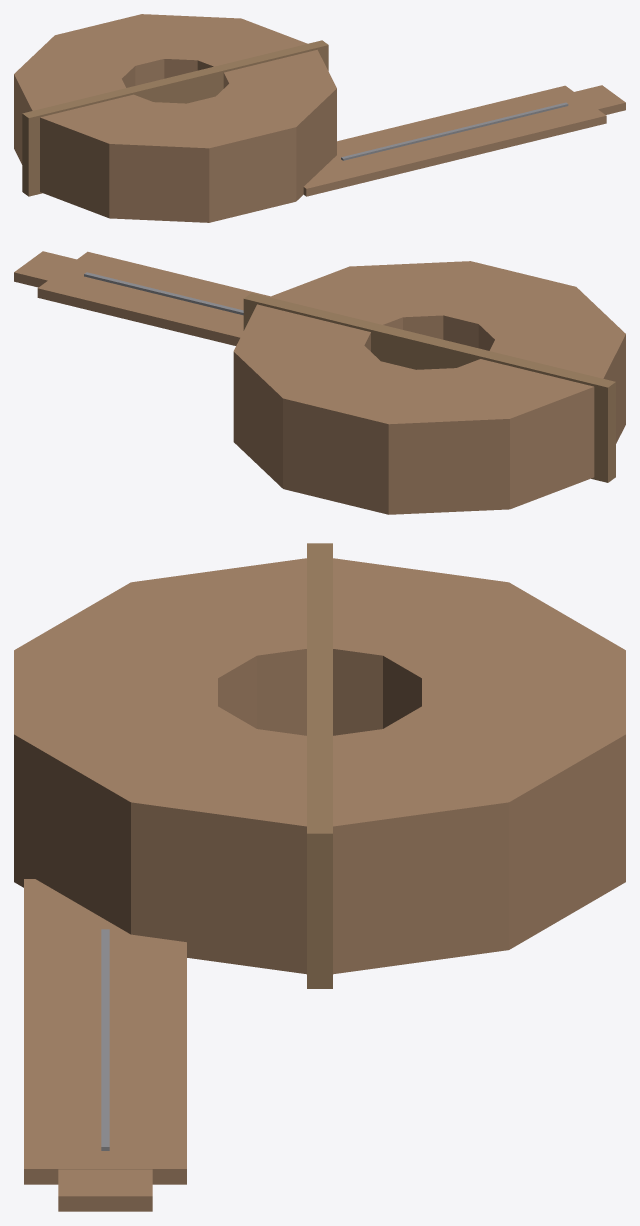
Rendered from prop-strap-blank-roll.fbx.
The picture shows the model from 3 angles, top to bottom: view 1: azimuth 30°, elevation 25°; view 2: azimuth 150°, elevation 25°; view 3: azimuth 270°, elevation 25°; orthographic projection. The views are drawn at different scales.
Visible parts, largest first — view 1: prop-strap-blank-roll; view 2: prop-strap-blank-roll; view 3: prop-strap-blank-roll.
Part boxes in pixels (box(x1,y1,x2,y2)): prop-strap-blank-roll: box(14, 14, 625, 222); prop-strap-blank-roll: box(14, 251, 625, 514); prop-strap-blank-roll: box(14, 543, 625, 1211).
Size of the model in its own units: 28.5 by 4 by 14.27.
